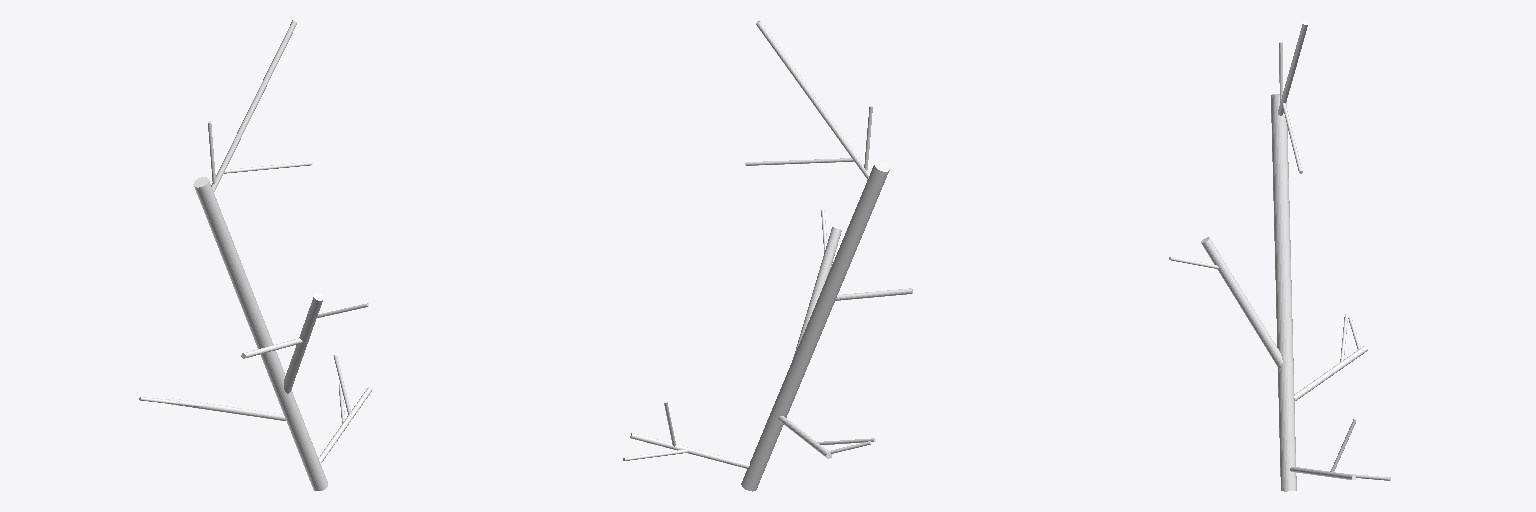
URDF robot description (tree_22.urdf):
<?xml version='1.0' encoding='UTF-8'?>
<robot name="tree_22.urdf">
  <link name="branch_0">
    <inertial>
      <origin xyz="0.0 0.0 0.0" rpy="0.0 -0.0 0.0"/>
      <mass value="1.0"/>
      <inertia ixx="1.0" ixy="0.0" ixz="0.0" iyy="1.0" iyz="0.0" izz="1.0"/>
    </inertial>
    <visual name="branch_0_visual">
      <geometry>
        <cylinder radius="0.17934915304539226" length="8.889289131967935"/>
      </geometry>
      <material name="branch_material"/>
      <origin xyz="-1.5992326117902669 -0.11264853121499345 4.1454349204555605" rpy="6.92174345120284e-18 0.36902116442558747 -3.0712696906734913"/>
    </visual>
    <collision name="branch_0_collision">
      <geometry>
        <cylinder radius="0.17934915304539226" length="8.889289131967935"/>
      </geometry>
      <origin xyz="-1.5992326117902669 -0.11264853121499345 4.1454349204555605" rpy="6.92174345120284e-18 0.36902116442558747 -3.0712696906734913"/>
    </collision>
  </link>
  <link name="branch_1">
    <inertial>
      <origin xyz="0.0 0.0 0.0" rpy="0.0 -0.0 0.0"/>
      <mass value="1.0"/>
      <inertia ixx="1.0" ixy="0.0" ixz="0.0" iyy="1.0" iyz="0.0" izz="1.0"/>
    </inertial>
    <visual name="branch_1_visual">
      <geometry>
        <cylinder radius="0.1127316565770523" length="3.635141274224755"/>
      </geometry>
      <material name="branch_material"/>
      <origin xyz="0.0 0.0 0.0" rpy="0.0 -0.0 0.0"/>
    </visual>
    <collision name="branch_1_collision">
      <geometry>
        <cylinder radius="0.1127316565770523" length="3.635141274224755"/>
      </geometry>
      <origin xyz="0.0 0.0 0.0" rpy="0.0 -0.0 0.0"/>
    </collision>
  </link>
  <link name="branch_2">
    <inertial>
      <origin xyz="0.0 0.0 0.0" rpy="0.0 -0.0 0.0"/>
      <mass value="1.0"/>
      <inertia ixx="1.0" ixy="0.0" ixz="0.0" iyy="1.0" iyz="0.0" izz="1.0"/>
    </inertial>
    <visual name="branch_2_visual">
      <geometry>
        <cylinder radius="0.04073176376274588" length="1.5351483370166576"/>
      </geometry>
      <material name="branch_material"/>
      <origin xyz="0.0 0.0 0.0" rpy="0.0 -0.0 0.0"/>
    </visual>
    <collision name="branch_2_collision">
      <geometry>
        <cylinder radius="0.04073176376274588" length="1.5351483370166576"/>
      </geometry>
      <origin xyz="0.0 0.0 0.0" rpy="0.0 -0.0 0.0"/>
    </collision>
  </link>
  <link name="branch_3">
    <inertial>
      <origin xyz="0.0 0.0 0.0" rpy="0.0 -0.0 0.0"/>
      <mass value="1.0"/>
      <inertia ixx="1.0" ixy="0.0" ixz="0.0" iyy="1.0" iyz="0.0" izz="1.0"/>
    </inertial>
    <visual name="branch_3_visual">
      <geometry>
        <cylinder radius="0.062244376292751015" length="2.143953703396247"/>
      </geometry>
      <material name="branch_material"/>
      <origin xyz="0.0 0.0 0.0" rpy="0.0 -0.0 0.0"/>
    </visual>
    <collision name="branch_3_collision">
      <geometry>
        <cylinder radius="0.062244376292751015" length="2.143953703396247"/>
      </geometry>
      <origin xyz="0.0 0.0 0.0" rpy="0.0 -0.0 0.0"/>
    </collision>
  </link>
  <link name="branch_4">
    <inertial>
      <origin xyz="0.0 0.0 0.0" rpy="0.0 -0.0 0.0"/>
      <mass value="1.0"/>
      <inertia ixx="1.0" ixy="0.0" ixz="0.0" iyy="1.0" iyz="0.0" izz="1.0"/>
    </inertial>
    <visual name="branch_4_visual">
      <geometry>
        <cylinder radius="0.06432200191825192" length="4.400979348283741"/>
      </geometry>
      <material name="branch_material"/>
      <origin xyz="0.0 0.0 0.0" rpy="0.0 -0.0 0.0"/>
    </visual>
    <collision name="branch_4_collision">
      <geometry>
        <cylinder radius="0.06432200191825192" length="4.400979348283741"/>
      </geometry>
      <origin xyz="0.0 0.0 0.0" rpy="0.0 -0.0 0.0"/>
    </collision>
  </link>
  <link name="branch_5">
    <inertial>
      <origin xyz="0.0 0.0 0.0" rpy="0.0 -0.0 0.0"/>
      <mass value="1.0"/>
      <inertia ixx="1.0" ixy="0.0" ixz="0.0" iyy="1.0" iyz="0.0" izz="1.0"/>
    </inertial>
    <visual name="branch_5_visual">
      <geometry>
        <cylinder radius="0.04162753903850532" length="2.624580736483099"/>
      </geometry>
      <material name="branch_material"/>
      <origin xyz="0.0 0.0 0.0" rpy="0.0 -0.0 0.0"/>
    </visual>
    <collision name="branch_5_collision">
      <geometry>
        <cylinder radius="0.04162753903850532" length="2.624580736483099"/>
      </geometry>
      <origin xyz="0.0 0.0 0.0" rpy="0.0 -0.0 0.0"/>
    </collision>
  </link>
  <link name="branch_6">
    <inertial>
      <origin xyz="0.0 0.0 0.0" rpy="0.0 -0.0 0.0"/>
      <mass value="1.0"/>
      <inertia ixx="1.0" ixy="0.0" ixz="0.0" iyy="1.0" iyz="0.0" izz="1.0"/>
    </inertial>
    <visual name="branch_6_visual">
      <geometry>
        <cylinder radius="0.04" length="1.6013720704556968"/>
      </geometry>
      <material name="branch_material"/>
      <origin xyz="0.0 0.0 0.0" rpy="0.0 -0.0 0.0"/>
    </visual>
    <collision name="branch_6_collision">
      <geometry>
        <cylinder radius="0.04" length="1.6013720704556968"/>
      </geometry>
      <origin xyz="0.0 0.0 0.0" rpy="0.0 -0.0 0.0"/>
    </collision>
  </link>
  <link name="branch_7">
    <inertial>
      <origin xyz="0.0 0.0 0.0" rpy="0.0 -0.0 0.0"/>
      <mass value="1.0"/>
      <inertia ixx="1.0" ixy="0.0" ixz="0.0" iyy="1.0" iyz="0.0" izz="1.0"/>
    </inertial>
    <visual name="branch_7_visual">
      <geometry>
        <cylinder radius="0.07069762692391969" length="2.8936160349765836"/>
      </geometry>
      <material name="branch_material"/>
      <origin xyz="0.0 0.0 0.0" rpy="0.0 -0.0 0.0"/>
    </visual>
    <collision name="branch_7_collision">
      <geometry>
        <cylinder radius="0.07069762692391969" length="2.8936160349765836"/>
      </geometry>
      <origin xyz="0.0 0.0 0.0" rpy="0.0 -0.0 0.0"/>
    </collision>
  </link>
  <link name="branch_8">
    <inertial>
      <origin xyz="0.0 0.0 0.0" rpy="0.0 -0.0 0.0"/>
      <mass value="1.0"/>
      <inertia ixx="1.0" ixy="0.0" ixz="0.0" iyy="1.0" iyz="0.0" izz="1.0"/>
    </inertial>
    <visual name="branch_8_visual">
      <geometry>
        <cylinder radius="0.04" length="1.07485985353595"/>
      </geometry>
      <material name="branch_material"/>
      <origin xyz="0.0 0.0 0.0" rpy="0.0 -0.0 0.0"/>
    </visual>
    <collision name="branch_8_collision">
      <geometry>
        <cylinder radius="0.04" length="1.07485985353595"/>
      </geometry>
      <origin xyz="0.0 0.0 0.0" rpy="0.0 -0.0 0.0"/>
    </collision>
  </link>
  <link name="branch_9">
    <inertial>
      <origin xyz="0.0 0.0 0.0" rpy="0.0 -0.0 0.0"/>
      <mass value="1.0"/>
      <inertia ixx="1.0" ixy="0.0" ixz="0.0" iyy="1.0" iyz="0.0" izz="1.0"/>
    </inertial>
    <visual name="branch_9_visual">
      <geometry>
        <cylinder radius="0.04" length="1.6641147288302514"/>
      </geometry>
      <material name="branch_material"/>
      <origin xyz="0.0 0.0 0.0" rpy="0.0 -0.0 0.0"/>
    </visual>
    <collision name="branch_9_collision">
      <geometry>
        <cylinder radius="0.04" length="1.6641147288302514"/>
      </geometry>
      <origin xyz="0.0 0.0 0.0" rpy="0.0 -0.0 0.0"/>
    </collision>
  </link>
  <link name="branch_10">
    <inertial>
      <origin xyz="0.0 0.0 0.0" rpy="0.0 -0.0 0.0"/>
      <mass value="1.0"/>
      <inertia ixx="1.0" ixy="0.0" ixz="0.0" iyy="1.0" iyz="0.0" izz="1.0"/>
    </inertial>
    <visual name="branch_10_visual">
      <geometry>
        <cylinder radius="0.06222595907227343" length="2.846052244820499"/>
      </geometry>
      <material name="branch_material"/>
      <origin xyz="0.0 0.0 0.0" rpy="0.0 -0.0 0.0"/>
    </visual>
    <collision name="branch_10_collision">
      <geometry>
        <cylinder radius="0.06222595907227343" length="2.846052244820499"/>
      </geometry>
      <origin xyz="0.0 0.0 0.0" rpy="0.0 -0.0 0.0"/>
    </collision>
  </link>
  <link name="branch_11">
    <inertial>
      <origin xyz="0.0 0.0 0.0" rpy="0.0 -0.0 0.0"/>
      <mass value="1.0"/>
      <inertia ixx="1.0" ixy="0.0" ixz="0.0" iyy="1.0" iyz="0.0" izz="1.0"/>
    </inertial>
    <visual name="branch_11_visual">
      <geometry>
        <cylinder radius="0.040275998050533744" length="1.423825037100247"/>
      </geometry>
      <material name="branch_material"/>
      <origin xyz="0.0 0.0 0.0" rpy="0.0 -0.0 0.0"/>
    </visual>
    <collision name="branch_11_collision">
      <geometry>
        <cylinder radius="0.040275998050533744" length="1.423825037100247"/>
      </geometry>
      <origin xyz="0.0 0.0 0.0" rpy="0.0 -0.0 0.0"/>
    </collision>
  </link>
  <link name="branch_12">
    <inertial>
      <origin xyz="0.0 0.0 0.0" rpy="0.0 -0.0 0.0"/>
      <mass value="1.0"/>
      <inertia ixx="1.0" ixy="0.0" ixz="0.0" iyy="1.0" iyz="0.0" izz="1.0"/>
    </inertial>
    <visual name="branch_12_visual">
      <geometry>
        <cylinder radius="0.04" length="1.6958740839654627"/>
      </geometry>
      <material name="branch_material"/>
      <origin xyz="0.0 0.0 0.0" rpy="0.0 -0.0 0.0"/>
    </visual>
    <collision name="branch_12_collision">
      <geometry>
        <cylinder radius="0.04" length="1.6958740839654627"/>
      </geometry>
      <origin xyz="0.0 0.0 0.0" rpy="0.0 -0.0 0.0"/>
    </collision>
  </link>
  <joint name="joint_0_1" type="fixed">
    <parent link="branch_0"/>
    <child link="branch_1"/>
    <axis xyz="1. 0. 0."/>
    <origin xyz="-1.0465651082464724 -0.9696466126124411 4.089852018788124" rpy="0.3574011652110885 0.38752327287750116 -0.8764896621478606"/>
  </joint>
  <joint name="joint_0_4" type="fixed">
    <parent link="branch_0"/>
    <child link="branch_4"/>
    <axis xyz="1. 0. 0."/>
    <origin xyz="-1.7295561791020526 0.08280725746993998 9.583758023429512" rpy="-0.049375989990986496 0.643222063857349 0.14306982503980872"/>
  </joint>
  <joint name="joint_0_7" type="fixed">
    <parent link="branch_0"/>
    <child link="branch_7"/>
    <axis xyz="1. 0. 0."/>
    <origin xyz="-1.8451774397428167 0.8274785778639956 1.9675697698867367" rpy="-1.1993556118989608 1.2931911633327395 1.274163066856615"/>
  </joint>
  <joint name="joint_0_10" type="fixed">
    <parent link="branch_0"/>
    <child link="branch_10"/>
    <axis xyz="1. 0. 0."/>
    <origin xyz="0.9647252339208713 0.7207760287044304 0.8870863033964148" rpy="-0.5074054335385155 1.2240796728787446 0.03624447671462693"/>
  </joint>
  <joint name="joint_1_2" type="fixed">
    <parent link="branch_0"/>
    <child link="branch_2"/>
    <axis xyz="1. 0. 0."/>
    <origin xyz="-0.7008715286904781 -2.070262139606417 5.288855392063619" rpy="0.7900671183823985 0.9760846787244146 -0.10230086600747088"/>
  </joint>
  <joint name="joint_1_3" type="fixed">
    <parent link="branch_0"/>
    <child link="branch_3"/>
    <axis xyz="1. 0. 0."/>
    <origin xyz="-2.042969202397468 -1.4455796478153677 4.452083366234826" rpy="-1.2237584141294924 1.0424369166928003 2.23544751034036"/>
  </joint>
  <joint name="joint_4_5" type="fixed">
    <parent link="branch_0"/>
    <child link="branch_5"/>
    <axis xyz="1. 0. 0."/>
    <origin xyz="-1.354085723405335 0.07264672823345408 8.095416799836556" rpy="-2.9140028825101316 1.3591126509557219 -2.7567843663983167"/>
  </joint>
  <joint name="joint_4_6" type="fixed">
    <parent link="branch_0"/>
    <child link="branch_6"/>
    <axis xyz="1. 0. 0."/>
    <origin xyz="-2.8869440781076348 -0.17004767401927118 8.894767154847926" rpy="0.013660170548154956 0.08324483512893269 -2.933283510504129"/>
  </joint>
  <joint name="joint_7_8" type="fixed">
    <parent link="branch_0"/>
    <child link="branch_8"/>
    <axis xyz="1. 0. 0."/>
    <origin xyz="-3.3381148031419805 1.483089921760818 2.2892387413880915" rpy="1.1947532808377839 -0.1596812875334488 -1.2719012987600558"/>
  </joint>
  <joint name="joint_7_9" type="fixed">
    <parent link="branch_0"/>
    <child link="branch_9"/>
    <axis xyz="1. 0. 0."/>
    <origin xyz="-3.096664127753698 1.2352824907146325 2.278837185167404" rpy="1.2500626292658572 -0.2645656204126702 -1.5521639288887892"/>
  </joint>
  <joint name="joint_10_11" type="fixed">
    <parent link="branch_0"/>
    <child link="branch_11"/>
    <axis xyz="1. 0. 0."/>
    <origin xyz="1.2699965413928846 1.2146915230262885 1.6726285710673976" rpy="0.3826076462669016 -0.1021503419579471 -2.737226294617437"/>
  </joint>
  <joint name="joint_10_12" type="fixed">
    <parent link="branch_0"/>
    <child link="branch_12"/>
    <axis xyz="1. 0. 0."/>
    <origin xyz="1.429901821845972 1.521064848866526 1.026010155529054" rpy="1.4325583631869805 0.3710599349909562 2.6171107099207984"/>
  </joint>
  <material name="branch_material">
    <color rgba="1. 1. 1. 1."/>
  </material>
</robot>

--- Facts derived from the render (not from the file) ---
The picture shows the robot from 3 angles, left to right: view 1: azimuth 30°, elevation 25°; view 2: azimuth 150°, elevation 25°; view 3: azimuth 270°, elevation 25°; orthographic projection.
Robot: tree_22.urdf — 13 links, 12 joints (12 fixed); root link branch_0; default pose: every joint at zero.
Visible links, largest first — view 1: branch_0, branch_4, branch_1, branch_7; view 2: branch_0, branch_4, branch_1, branch_10; view 3: branch_0, branch_1, branch_7, branch_4.
Boxes of the visible links, left/top/right/bottom form: branch_0: left=193, top=177, right=327, bottom=490; branch_4: left=211, top=20, right=296, bottom=191; branch_1: left=284, top=293, right=323, bottom=393; branch_7: left=165, top=397, right=285, bottom=420; branch_0: left=741, top=162, right=889, bottom=491; branch_4: left=756, top=21, right=869, bottom=179; branch_1: left=793, top=227, right=841, bottom=357; branch_10: left=630, top=433, right=749, bottom=468; branch_0: left=1271, top=94, right=1296, bottom=491; branch_1: left=1201, top=237, right=1282, bottom=367; branch_7: left=1294, top=346, right=1367, bottom=400; branch_4: left=1278, top=20, right=1308, bottom=115.
Size in the robot's own frame: 6.05 by 4.97 by 11.45 metres.
Geometry: primitives only (box / cylinder / sphere), no mesh files.